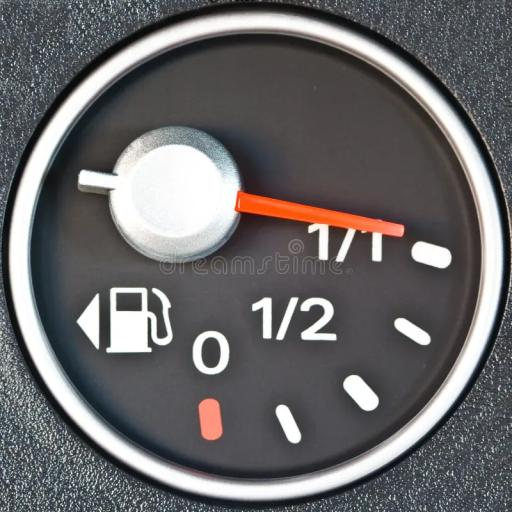empty: (194, 329, 236, 381)
fuel_icon: (106, 282, 178, 357)
guage_area: (11, 1, 509, 505)
needle_center: (111, 119, 269, 266)
needle_tip: (358, 212, 416, 240)
